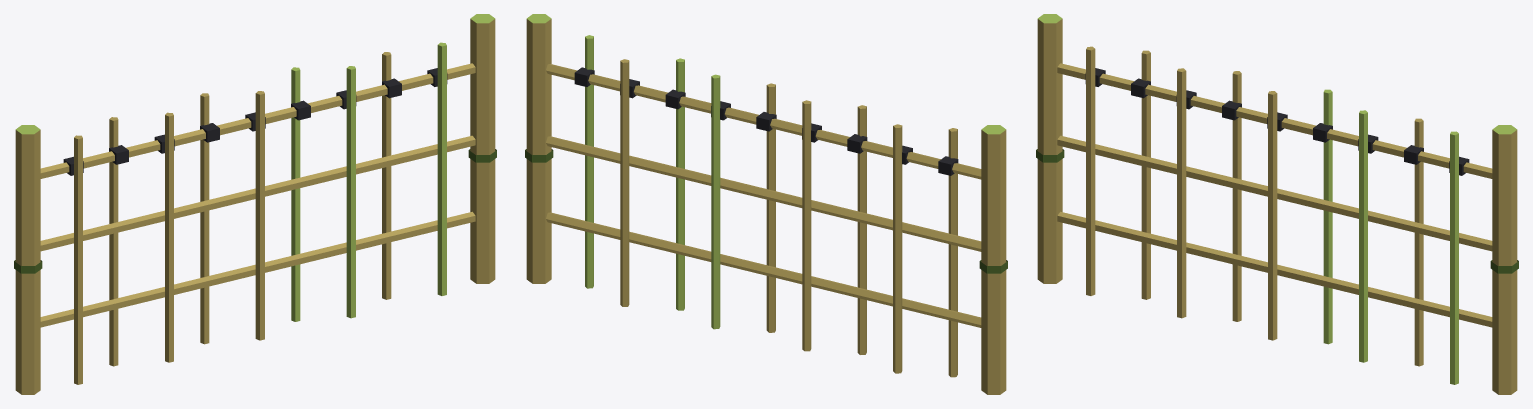
Rendered from fence_bamboo.fbx.
3 views of the same model, side by side, from view 1: azimuth 30°, elevation 25°; view 2: azimuth 150°, elevation 25°; view 3: azimuth 330°, elevation 25° (orthographic).
Parts seen in each view (by area): view 1: fence_bamboo; view 2: fence_bamboo; view 3: fence_bamboo.
Part boxes in pixels (x1=…): fence_bamboo: x1=14, y1=14, x2=496, y2=394; fence_bamboo: x1=525, y1=14, x2=1007, y2=394; fence_bamboo: x1=1036, y1=14, x2=1518, y2=394.
Size of the model in its own units: 2.62 by 1.37 by 0.138.
